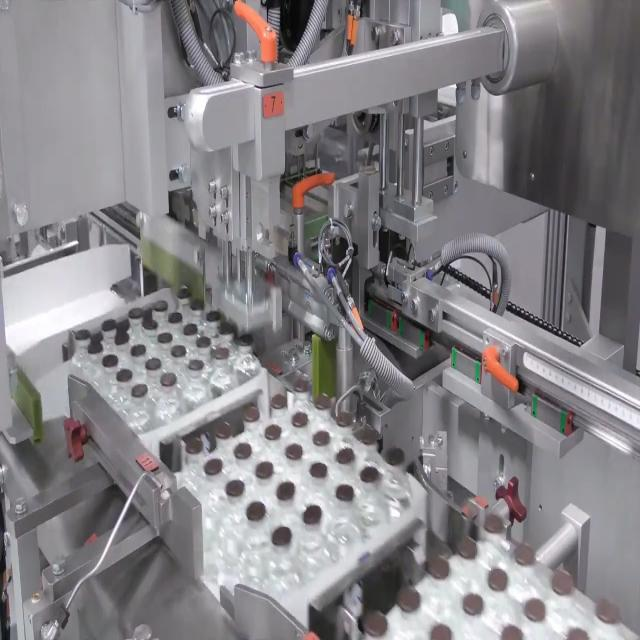vial: (550, 568, 578, 598), (596, 598, 622, 626), (523, 597, 548, 625), (463, 592, 488, 616), (362, 610, 386, 634), (302, 503, 324, 526), (226, 481, 248, 504), (501, 622, 528, 640), (427, 553, 449, 575), (455, 539, 477, 561), (427, 624, 457, 640), (510, 542, 530, 564), (361, 462, 380, 485), (396, 591, 420, 609), (489, 564, 507, 588), (485, 515, 509, 532), (271, 528, 291, 548), (246, 500, 266, 519), (203, 458, 224, 476), (183, 438, 205, 454), (290, 411, 310, 427), (264, 423, 282, 440), (244, 405, 261, 423), (311, 460, 330, 476), (286, 445, 304, 461), (566, 625, 585, 640), (276, 482, 295, 497), (256, 461, 274, 476), (101, 354, 120, 368), (385, 449, 402, 464), (233, 444, 251, 458), (130, 384, 148, 398), (272, 392, 287, 408), (314, 429, 330, 444), (338, 484, 353, 500), (116, 370, 133, 384), (190, 300, 205, 315), (127, 308, 145, 320), (158, 373, 176, 385), (206, 308, 221, 322), (213, 350, 229, 363), (214, 424, 228, 438), (168, 310, 182, 324), (189, 358, 203, 372), (87, 344, 104, 355), (238, 334, 253, 346), (171, 344, 186, 356), (143, 322, 158, 334), (130, 344, 146, 355), (113, 334, 130, 344), (338, 413, 351, 426), (199, 336, 212, 348), (184, 322, 197, 334), (294, 379, 308, 390), (339, 448, 353, 459), (147, 360, 162, 370), (362, 430, 374, 442), (178, 288, 190, 300), (75, 330, 91, 339), (315, 395, 328, 406), (102, 321, 117, 330), (155, 301, 168, 311), (221, 326, 233, 336), (158, 334, 170, 341)
